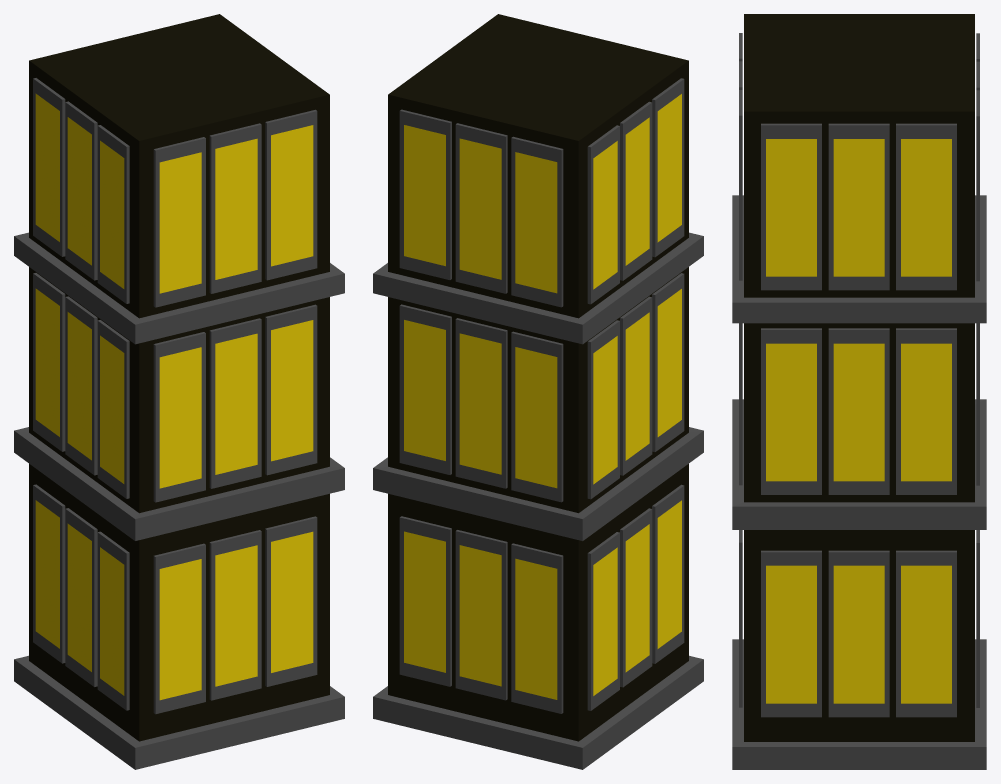
Rendered from SkyscraperFix.fbx.
3 views of the same model, side by side, from view 1: azimuth 30°, elevation 25°; view 2: azimuth 150°, elevation 25°; view 3: azimuth 270°, elevation 25° (orthographic). The views are drawn at different scales.
Visible parts, largest first — view 1: Plane.005, Cube; view 2: Plane.005, Cube; view 3: Plane.005, Cube.
Part boxes in pixels (box(x1,y1,x2,y2)): Plane.005: box(33, 78, 317, 714); Cube: box(14, 14, 344, 769); Plane.005: box(399, 78, 684, 713); Cube: box(373, 14, 703, 769); Plane.005: box(739, 33, 979, 717); Cube: box(732, 14, 986, 769).
Bounding box in the file's own units: 7483 × 21228 × 7483.
